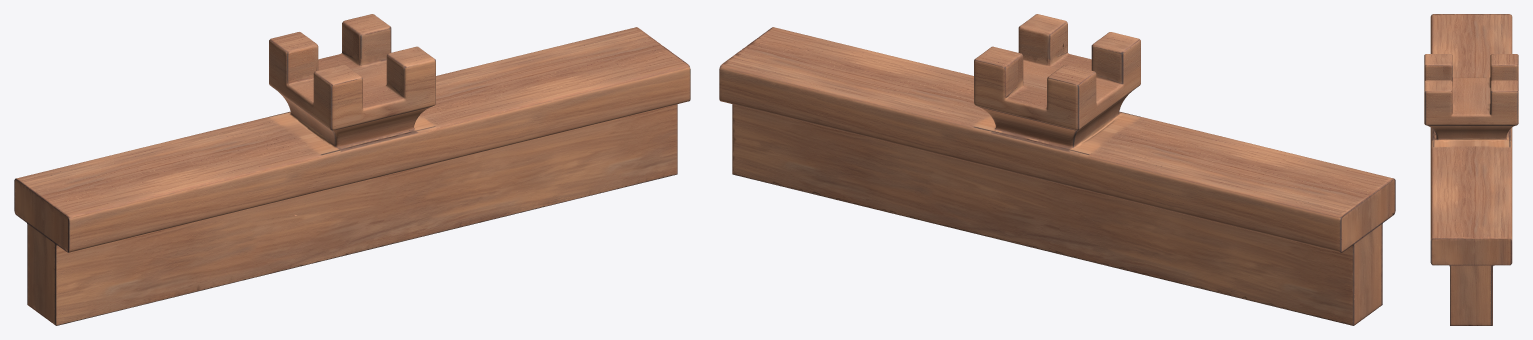
3 views of the same model, side by side, from view 1: azimuth 30°, elevation 25°; view 2: azimuth 150°, elevation 25°; view 3: azimuth 270°, elevation 25° (orthographic). The views are drawn at different scales.
Size of the model in its own units: 1.9 by 0.5578 by 0.3376.
Materials: 1 (1 with a texture image).
